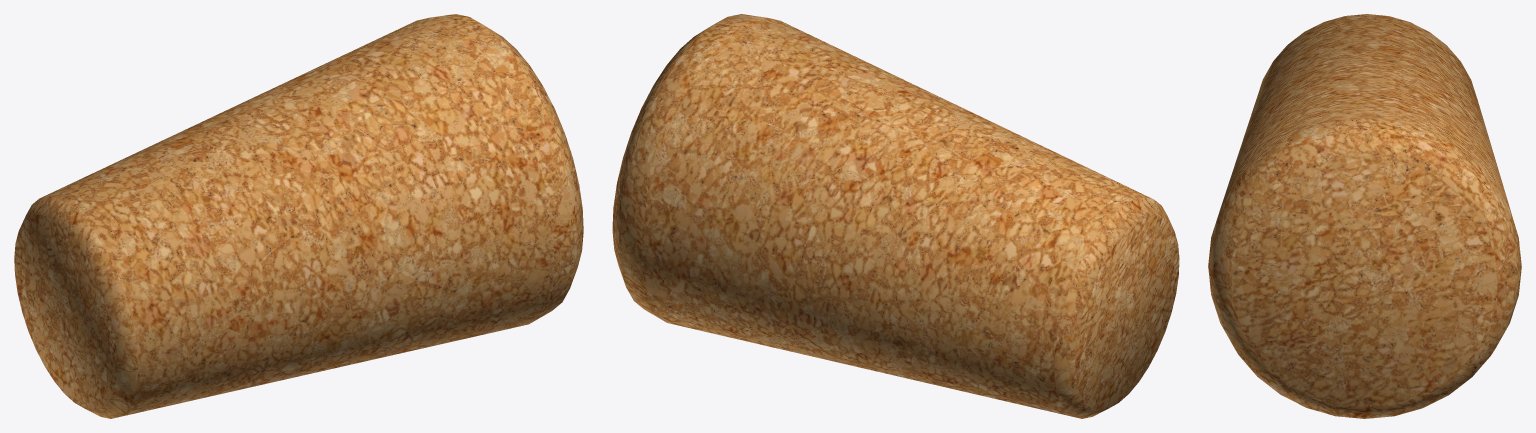
Rendered from sughero.fbx.
The picture shows the model from 3 angles, left to right: view 1: azimuth 30°, elevation 25°; view 2: azimuth 150°, elevation 25°; view 3: azimuth 270°, elevation 25°; orthographic projection. The views are drawn at different scales.
Parts seen in each view (by area): view 1: sughero; view 2: sughero; view 3: sughero.
Boxes of the visible parts, x1,y1,x2,y2 form: sughero: (14,14,583,418); sughero: (612,14,1179,418); sughero: (1208,14,1521,418).
Bounding box in the file's own units: 5.7 × 3.4 × 3.42.
